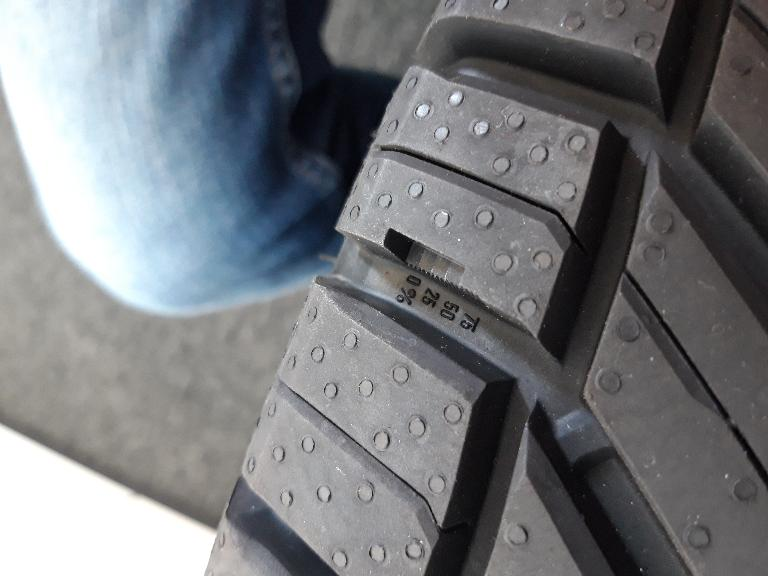temoin:100: (381, 226, 480, 308)
